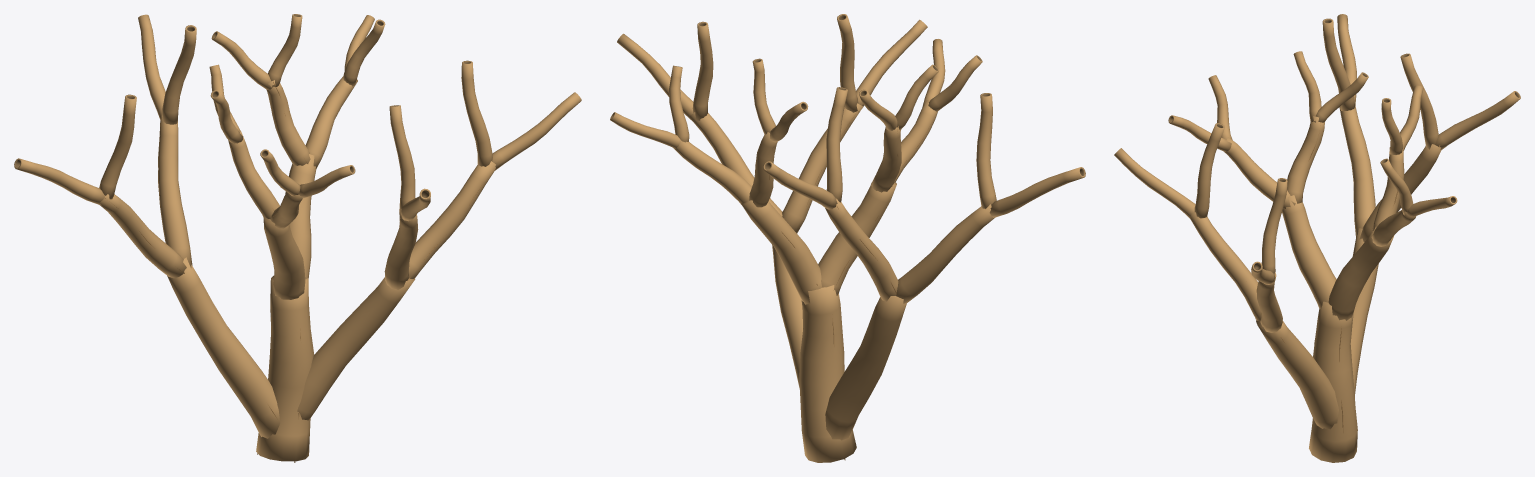
Rendered from vauxia.glb.
3 renders of one model, left to right at view 1: azimuth 30°, elevation 25°; view 2: azimuth 150°, elevation 25°; view 3: azimuth 270°, elevation 25°, orthographic. The views are drawn at different scales.
Parts seen in each view (by area): view 1: tapered-dichotomous-fibrous-sponge; view 2: tapered-dichotomous-fibrous-sponge; view 3: tapered-dichotomous-fibrous-sponge.
Boxes of the visible parts, x1,y1,x2,y2 form: tapered-dichotomous-fibrous-sponge: (14, 14, 581, 461); tapered-dichotomous-fibrous-sponge: (610, 14, 1085, 462); tapered-dichotomous-fibrous-sponge: (1114, 14, 1520, 462).
Size of the model in its own units: 0.2361 by 0.18 by 0.1766.
